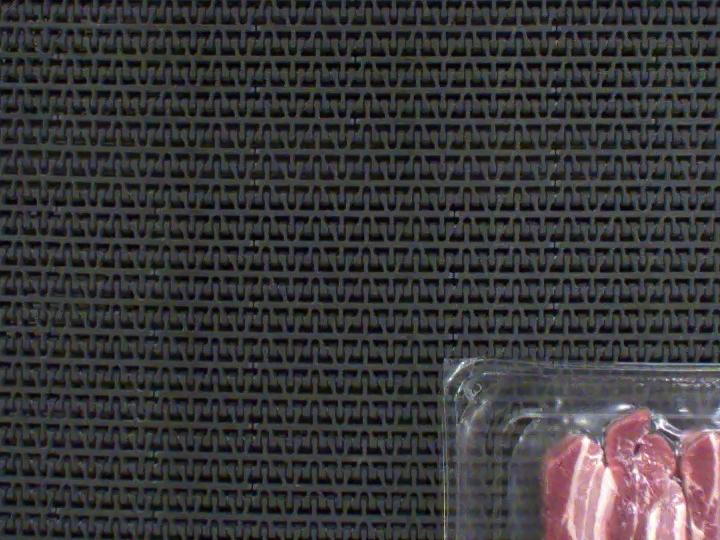unsealed: (490, 352, 720, 540)
